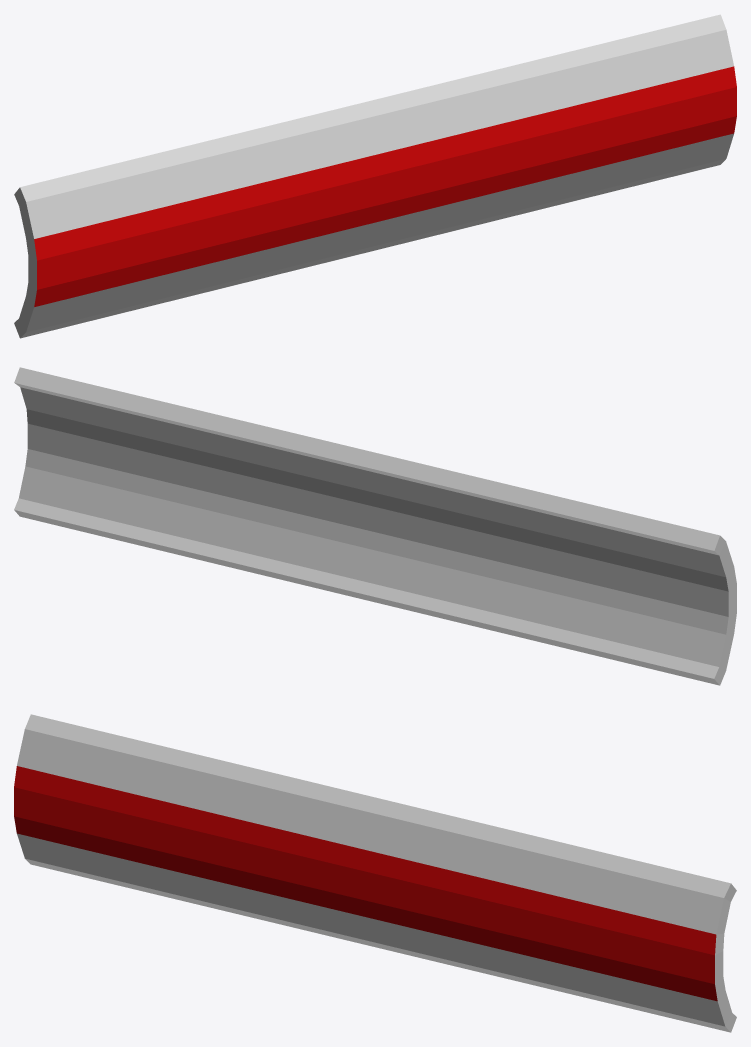
Rendered from SB Nacelle Rear Hatch anim.fbx.
3 renders of one model, top to bottom at view 1: azimuth 30°, elevation 25°; view 2: azimuth 150°, elevation 25°; view 3: azimuth 330°, elevation 25°, orthographic.
Parts seen in each view (by area): view 1: Stbd Nacelle Rear Hatch; view 2: Stbd Nacelle Rear Hatch; view 3: Stbd Nacelle Rear Hatch.
Boxes of the visible parts, box(x1,y1,x2,y2) form: Stbd Nacelle Rear Hatch: box(14, 14, 736, 338); Stbd Nacelle Rear Hatch: box(14, 367, 736, 685); Stbd Nacelle Rear Hatch: box(14, 714, 736, 1032).
Size of the model in its own units: 237 by 48.72 by 14.73.
